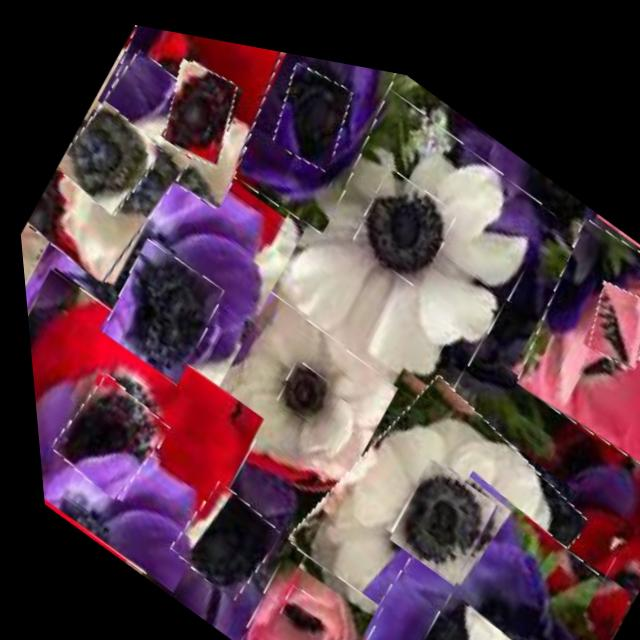Flower: (6, 81, 321, 502), (231, 39, 571, 425), (261, 322, 600, 640), (18, 261, 273, 606), (287, 420, 638, 640), (5, 19, 233, 310), (161, 24, 420, 242), (72, 11, 322, 225), (486, 173, 640, 469), (86, 224, 230, 391), (36, 360, 169, 512), (218, 524, 381, 640), (372, 435, 499, 580), (44, 85, 169, 228), (154, 464, 278, 605), (339, 144, 463, 284), (142, 41, 254, 172), (255, 41, 367, 171), (395, 572, 510, 640), (568, 249, 640, 356), (567, 529, 640, 622), (265, 345, 331, 421), (265, 573, 321, 633)
